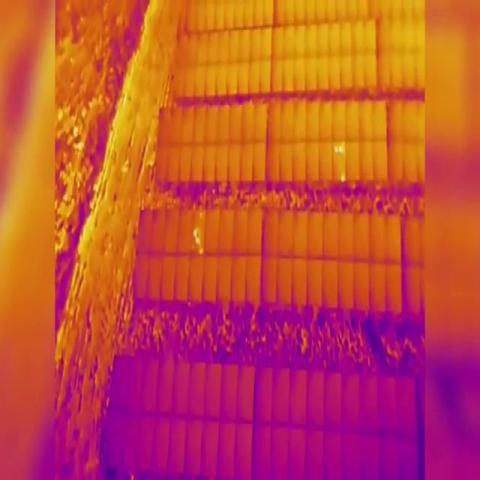fault: (197, 244, 205, 256), (338, 139, 344, 154), (192, 226, 199, 238), (194, 233, 200, 246), (340, 172, 346, 183), (333, 141, 337, 154)
